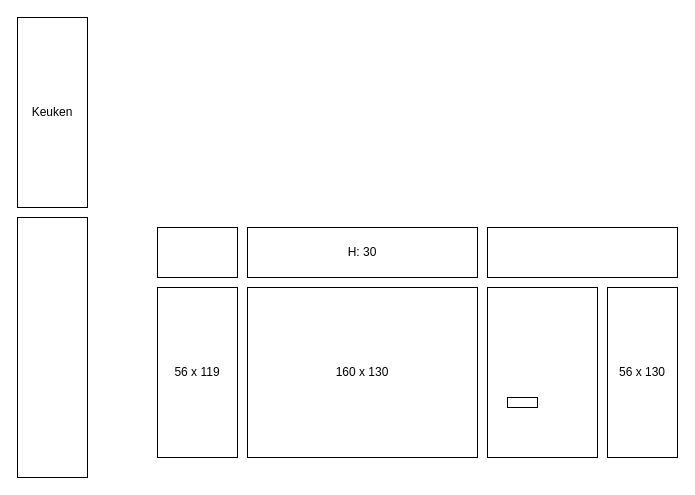
Image size: 695x495. Some labels were removed from this diagram. The centre of each missing label's shape, as x and y in pixels:
60 x 126: point (542, 372)
Woonkamer: point (52, 347)
